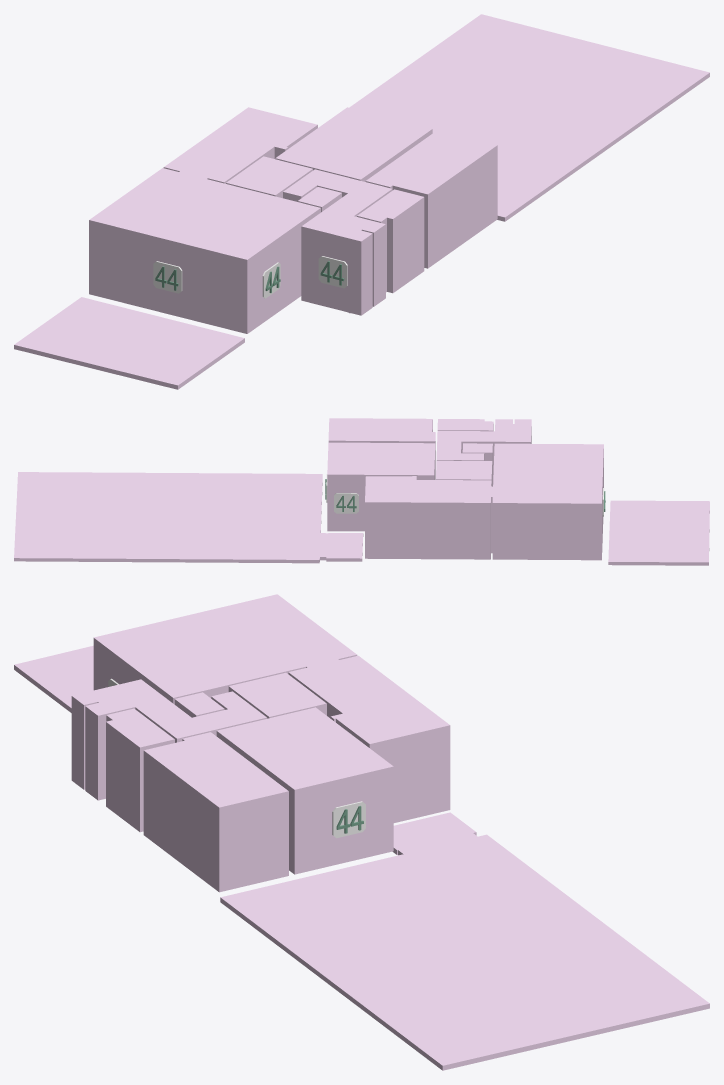
3 views of the same model, one above another, from view 1: azimuth 30°, elevation 25°; view 2: azimuth 150°, elevation 25°; view 3: azimuth 270°, elevation 25° (orthographic). The views are drawn at different scales.
Visible parts, largest first — view 1: g_9, g_1, g_8, g_7, g_4, g_6, g_0, g_5, g_2, g_24, g_15, g_3; view 2: g_9, g_1, g_0, g_8, g_6, g_7, g_4, g_2, g_5, g_12, g_3; view 3: g_9, g_7, g_1, g_6, g_0, g_4, g_5, g_8, g_2, g_18, g_3.
Part boxes in pixels (x1,y1,x2,y2): g_9: (349, 14, 709, 221); g_1: (89, 168, 320, 333); g_8: (14, 297, 244, 389); g_7: (365, 130, 497, 268); g_4: (283, 169, 392, 315); g_6: (275, 107, 432, 181); g_0: (163, 107, 317, 183); g_5: (357, 189, 424, 293); g_2: (226, 156, 312, 198); g_24: (153, 261, 182, 293); g_15: (318, 256, 347, 288); g_3: (297, 187, 341, 212); g_9: (14, 472, 363, 563); g_1: (492, 443, 603, 560); g_0: (365, 476, 492, 559); g_8: (608, 500, 709, 565); g_6: (327, 442, 435, 531); g_7: (328, 418, 435, 479); g_4: (436, 419, 531, 484); g_2: (436, 460, 492, 486); g_5: (437, 419, 493, 431); g_12: (334, 493, 358, 513); g_3: (462, 443, 492, 486); g_9: (220, 812, 709, 1070); g_7: (143, 732, 288, 892); g_1: (93, 594, 357, 704); g_6: (216, 707, 393, 874); g_0: (288, 655, 450, 822); g_4: (71, 679, 267, 800); g_5: (106, 708, 174, 832); g_8: (14, 645, 93, 712); g_2: (228, 672, 326, 718); g_18: (332, 801, 365, 838); g_3: (174, 692, 224, 717).
Size of the model in its own units: 29.08 by 2.74 by 19.16.
